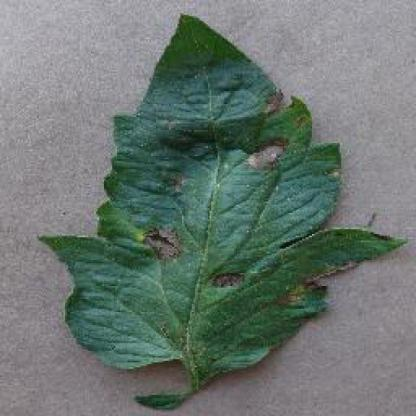Tomato_Blight: (38, 13, 406, 371)
